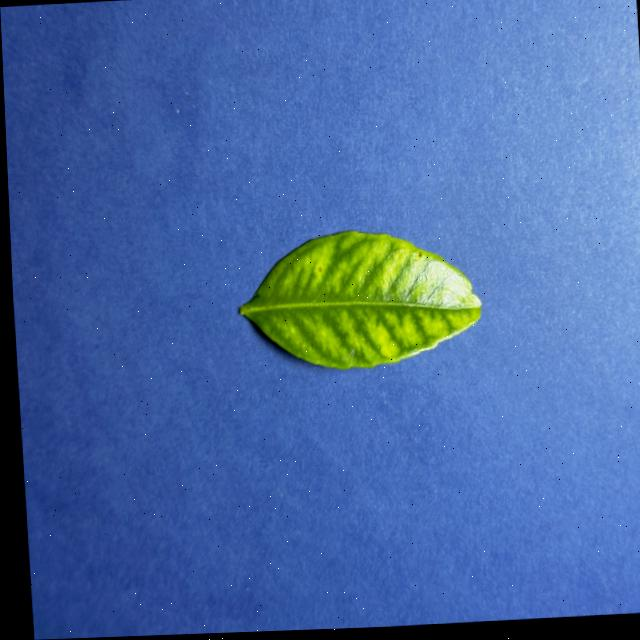greening: (239, 230, 480, 367)
